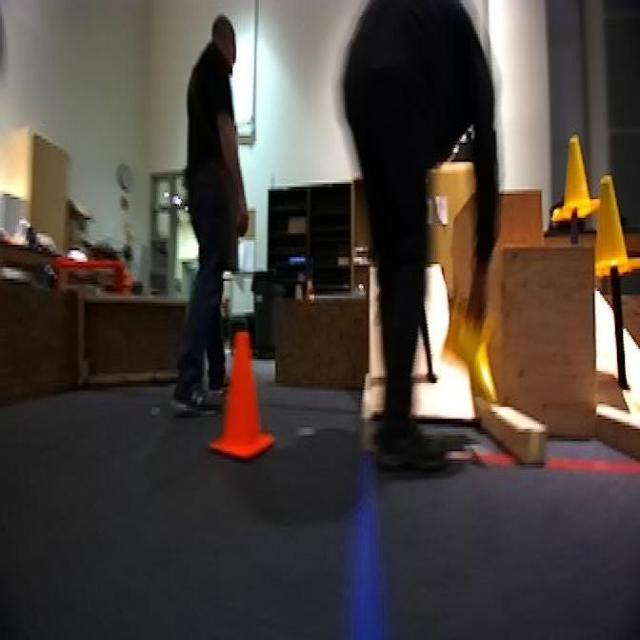frc_cone: (585, 177, 640, 287), (442, 304, 499, 408), (550, 136, 601, 223)
